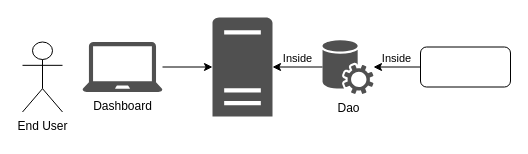
Some shapes in this 528 by 154 pixel diagram are drawn without their labels. Each missing label, with the centre of its shape:
"Server" belongs at point (242, 66).
"Syntetic Sensor" belongs at point (465, 66).
